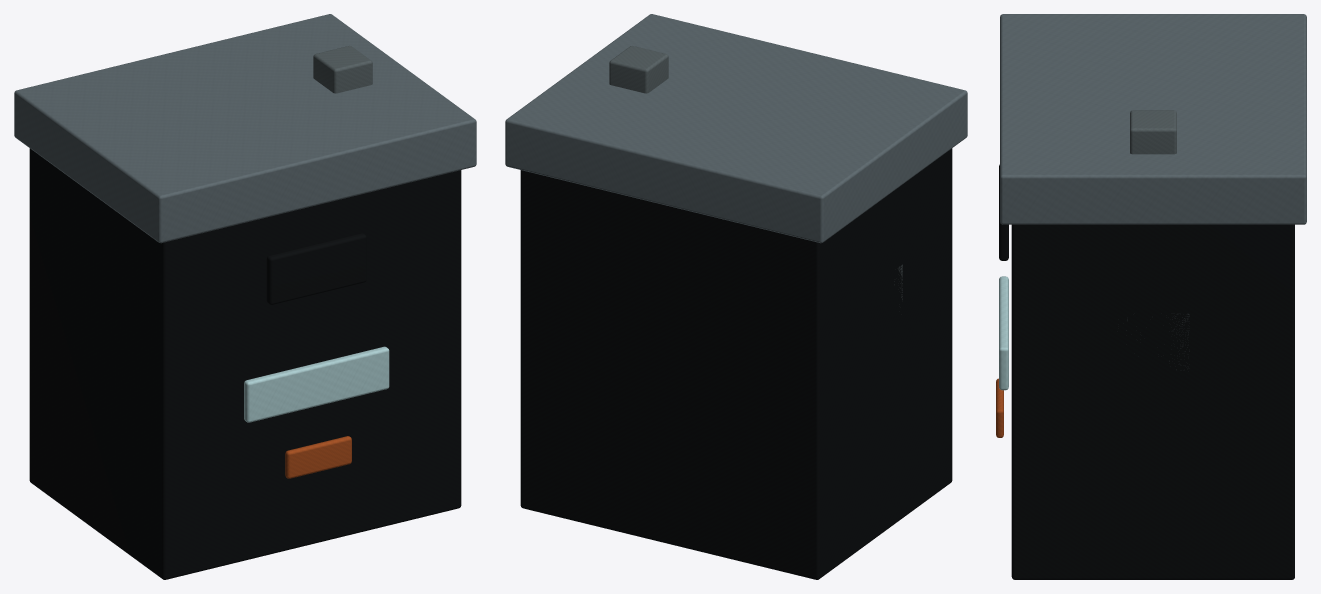
File: MobileCryogenicCase.fbx
The picture shows the model from 3 angles, left to right: view 1: azimuth 30°, elevation 25°; view 2: azimuth 150°, elevation 25°; view 3: azimuth 270°, elevation 25°; orthographic projection. The views are drawn at different scales.
Visible parts, largest first — view 1: MobileCryogenicCase_Mesh; view 2: MobileCryogenicCase_Mesh; view 3: MobileCryogenicCase_Mesh.
Part boxes in pixels (left/top/right/bottom): MobileCryogenicCase_Mesh: left=14, top=14, right=476, bottom=579; MobileCryogenicCase_Mesh: left=505, top=14, right=967, bottom=579; MobileCryogenicCase_Mesh: left=996, top=14, right=1306, bottom=579.
Size of the model in its own units: 98 by 122 by 79.
